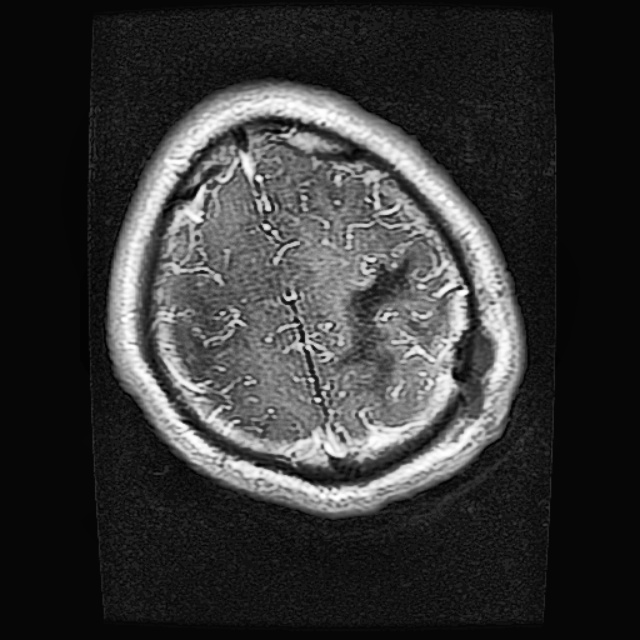Pituitary: (448, 325, 495, 418)
